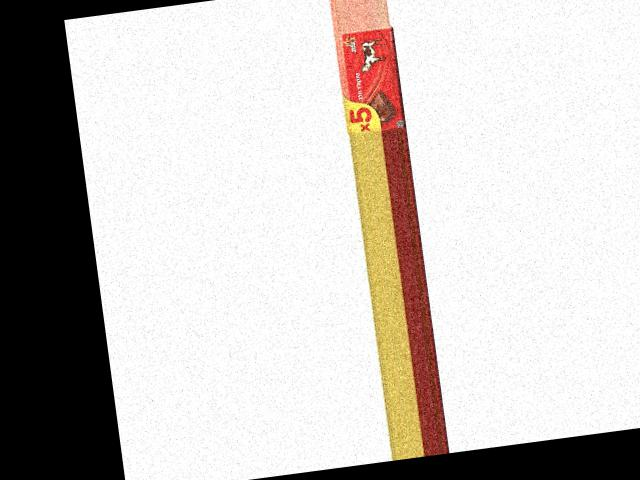chocolate: (331, 23, 405, 135)
